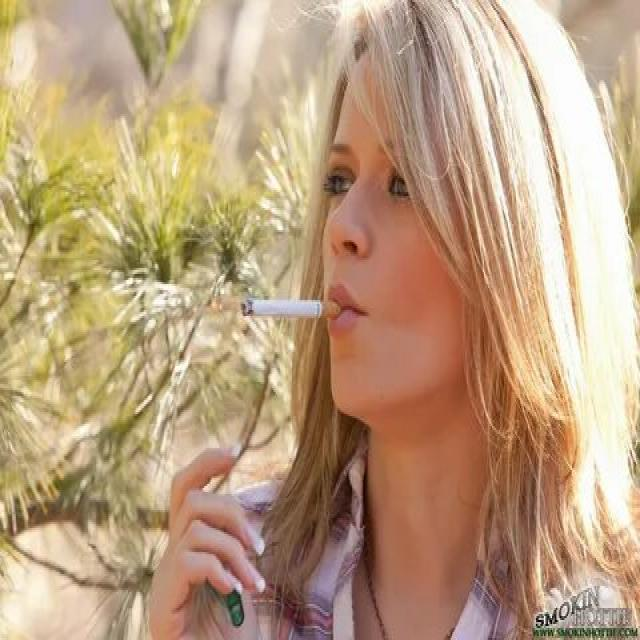cigarette: (239, 294, 344, 324)
